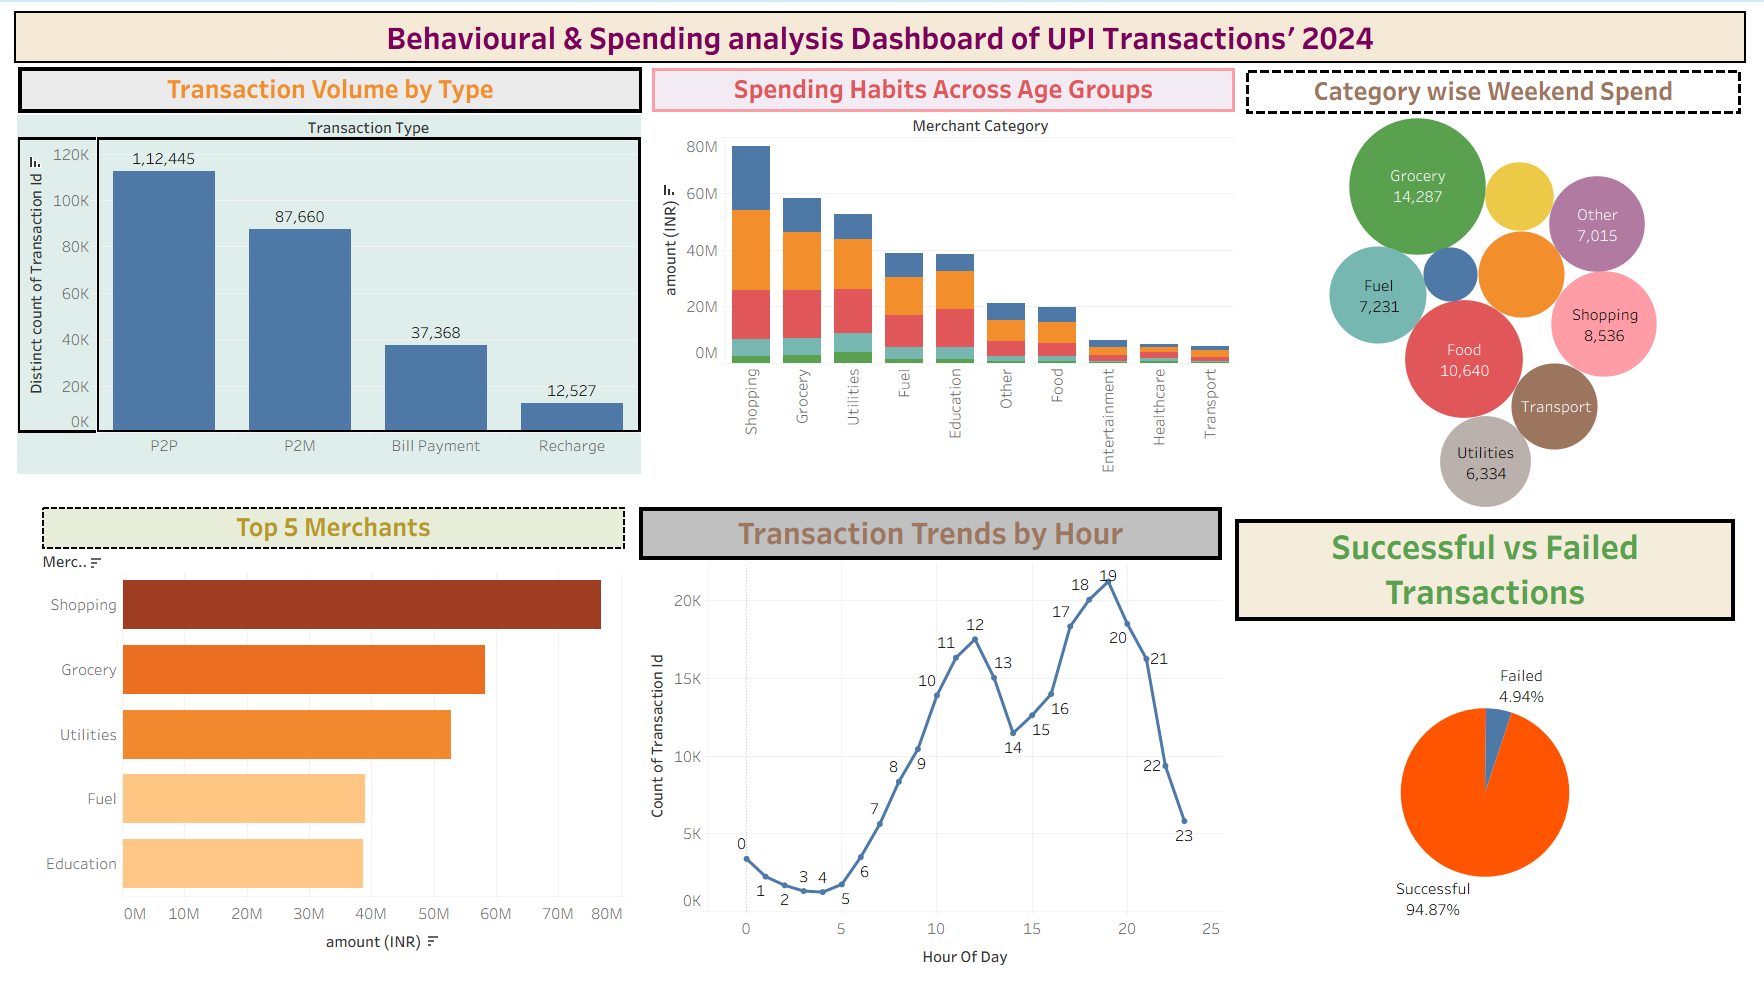

The page's visual inventory and layout, read from the dashboard file:
{"tool":"tableau","page":{"name":"Dashboard 1","canvas":[1000,1000],"units":"permille","ordinal":0},"visuals":[{"type":"title","box":[4.8,9.3,989.7,52.3]},{"type":"worksheet","title":"Barchart","mark":"Automatic","rows":["transaction id"],"cols":["transaction type"],"box":[6,65,357.3,410]},{"type":"worksheet","title":"Stacked bar chart","mark":"Automatic","rows":["amount (INR)"],"cols":["merchant_category"],"box":[369.3,66.2,333.1,418.1]},{"type":"worksheet","title":"Bubble chart","mark":"Circle","box":[708.5,68.5,283,440.2]},{"type":"worksheet","title":"Horizantal bar","mark":"Automatic","rows":["merchant_category"],"cols":["amount (INR)"],"box":[20.5,508.7,333.1,455.3]},{"type":"worksheet","title":"Line chart","mark":"Automatic","rows":["transaction id"],"cols":["hour_of_day"],"box":[361.5,508.7,333.1,470.4]},{"type":"worksheet","title":"Piechart","mark":"Pie","box":[702.5,520.3,285.5,444.8]}]}

Visuals, with their boxes on the dashboard's canvas, which has no fixed pixel size, in thousandths of its width and height (x1, y1, x2, y2). These are canvas units, not pixel positions in the 1764x984 screenshot, which may show the page scaled, cropped or inside an application window:
title: box=[5, 9, 994, 62]
"Barchart" worksheet: box=[6, 65, 363, 475]
"Stacked bar chart" worksheet: box=[369, 66, 702, 484]
"Bubble chart" worksheet (Circle marks): box=[708, 68, 992, 509]
"Horizantal bar" worksheet: box=[20, 509, 354, 964]
"Line chart" worksheet: box=[362, 509, 695, 979]
"Piechart" worksheet (Pie marks): box=[702, 520, 988, 965]
